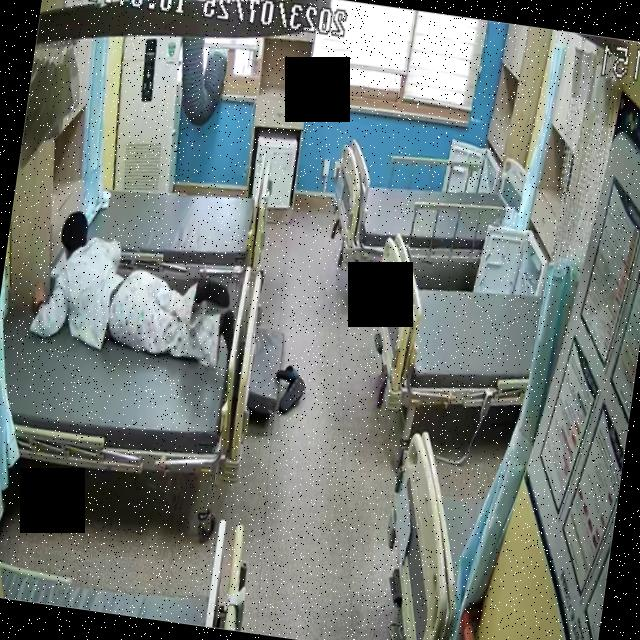bed: (0, 232, 270, 488), (71, 120, 276, 301), (358, 235, 544, 422), (328, 144, 511, 281)
danger: (28, 206, 240, 373)
patient: (26, 206, 240, 370)
